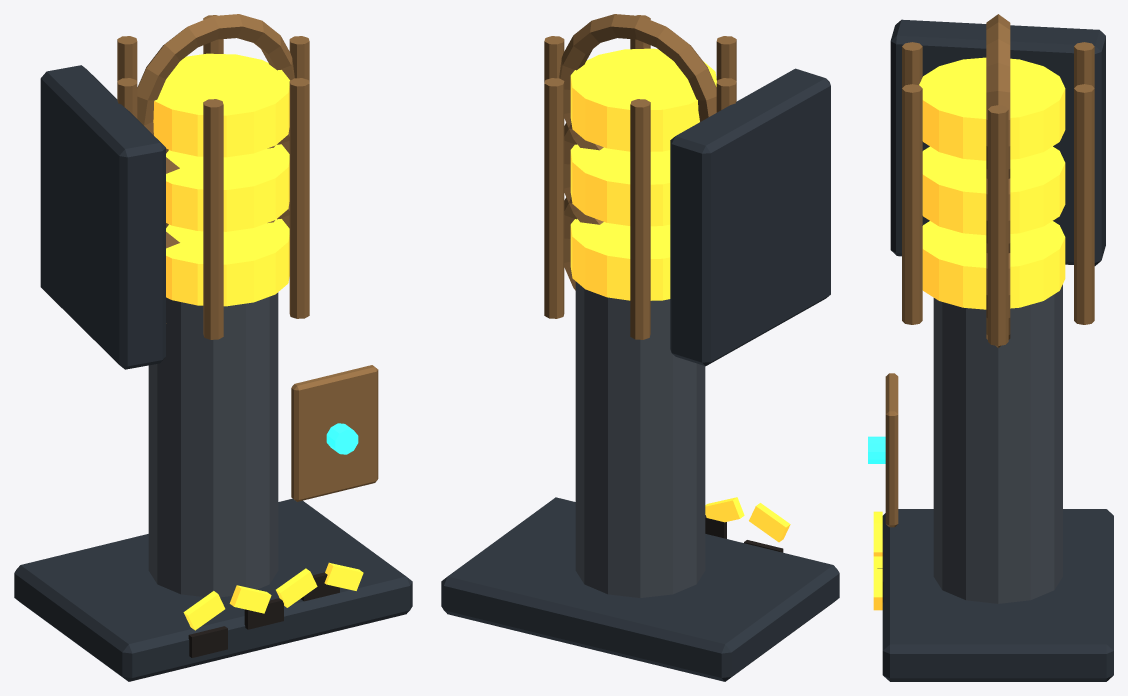
File: runtime.glb
3 renders of one model, left to right at view 1: azimuth 30°, elevation 25°; view 2: azimuth 150°, elevation 25°; view 3: azimuth 270°, elevation 25°, orthographic.
Parts seen in each view (by area): view 1: kinetic-tide-warning-beacon-v07_steel_nocol, kinetic-tide-warning-beacon-v07_plate_nocol, kinetic-tide-warning-beacon-v07_warningorange_nocol, kinetic-tide-warning-beacon-v07_bronze_nocol, kinetic-tide-warning-beacon-v07_weardark_nocol, kinetic-tide-warning-beacon-v07_cyansignal_nocol; view 2: kinetic-tide-warning-beacon-v07_steel_nocol, kinetic-tide-warning-beacon-v07_plate_nocol, kinetic-tide-warning-beacon-v07_warningorange_nocol, kinetic-tide-warning-beacon-v07_bronze_nocol; view 3: kinetic-tide-warning-beacon-v07_steel_nocol, kinetic-tide-warning-beacon-v07_plate_nocol, kinetic-tide-warning-beacon-v07_warningorange_nocol, kinetic-tide-warning-beacon-v07_bronze_nocol, kinetic-tide-warning-beacon-v07_cyansignal_nocol.
Boxes of the visible parts, left/top/right/bottom form: kinetic-tide-warning-beacon-v07_steel_nocol: left=14, top=65, right=412, bottom=681; kinetic-tide-warning-beacon-v07_plate_nocol: left=148, top=292, right=278, bottom=597; kinetic-tide-warning-beacon-v07_warningorange_nocol: left=153, top=53, right=363, bottom=630; kinetic-tide-warning-beacon-v07_bronze_nocol: left=117, top=14, right=378, bottom=501; kinetic-tide-warning-beacon-v07_weardark_nocol: left=188, top=572, right=339, bottom=657; kinetic-tide-warning-beacon-v07_cyansignal_nocol: left=326, top=423, right=358, bottom=454; kinetic-tide-warning-beacon-v07_steel_nocol: left=441, top=68, right=839, bottom=681; kinetic-tide-warning-beacon-v07_plate_nocol: left=575, top=281, right=705, bottom=597; kinetic-tide-warning-beacon-v07_warningorange_nocol: left=570, top=48, right=790, bottom=542; kinetic-tide-warning-beacon-v07_bronze_nocol: left=544, top=14, right=736, bottom=339; kinetic-tide-warning-beacon-v07_steel_nocol: left=882, top=19, right=1113, bottom=681; kinetic-tide-warning-beacon-v07_plate_nocol: left=933, top=284, right=1062, bottom=603; kinetic-tide-warning-beacon-v07_warningorange_nocol: left=873, top=57, right=1065, bottom=610; kinetic-tide-warning-beacon-v07_bronze_nocol: left=885, top=14, right=1094, bottom=527; kinetic-tide-warning-beacon-v07_cyansignal_nocol: left=868, top=436, right=885, bottom=463.
Size of the model in its own units: 1.83 by 3.56 by 1.34.
